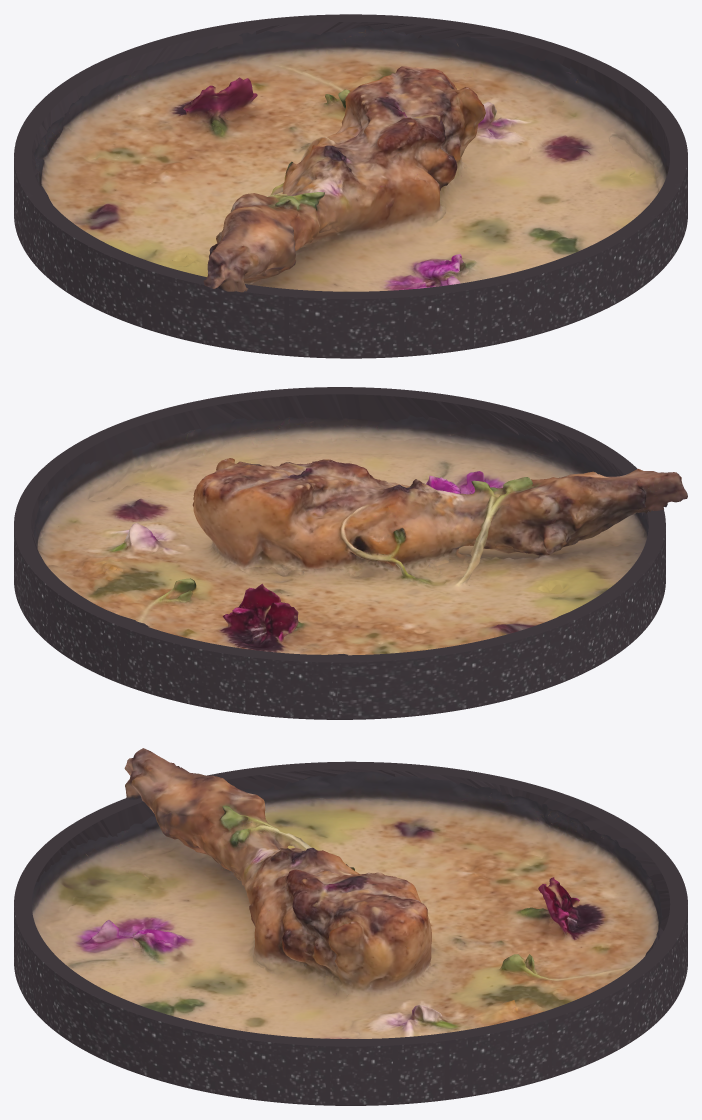
File: food14.glb
3 renders of one model, top to bottom at view 1: azimuth 30°, elevation 25°; view 2: azimuth 150°, elevation 25°; view 3: azimuth 270°, elevation 25°, orthographic. The views are drawn at different scales.
Parts seen in each view (by area): view 1: polySurface8, polySurface9; view 2: polySurface8, polySurface9; view 3: polySurface8, polySurface9.
Boxes of the visible parts, x1,y1,x2,y2 form: polySurface8: (33, 26, 668, 292); polySurface9: (14, 14, 687, 358); polySurface8: (34, 415, 687, 655); polySurface9: (14, 387, 665, 719); polySurface8: (32, 748, 662, 1038); polySurface9: (14, 761, 687, 1105).
Bounding box in the file's own units: 0.1511 × 0.0262 × 0.1511.
4 materials, 4 textured.
